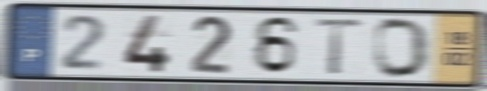2: (58, 13, 112, 72), (188, 14, 235, 76)
4: (121, 13, 173, 75)
6: (250, 15, 300, 78)
O: (372, 16, 432, 81)
T: (311, 16, 367, 77)
